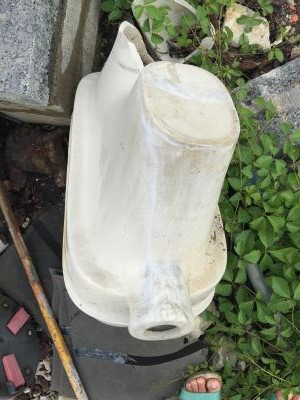bucket: (59, 16, 248, 343)
